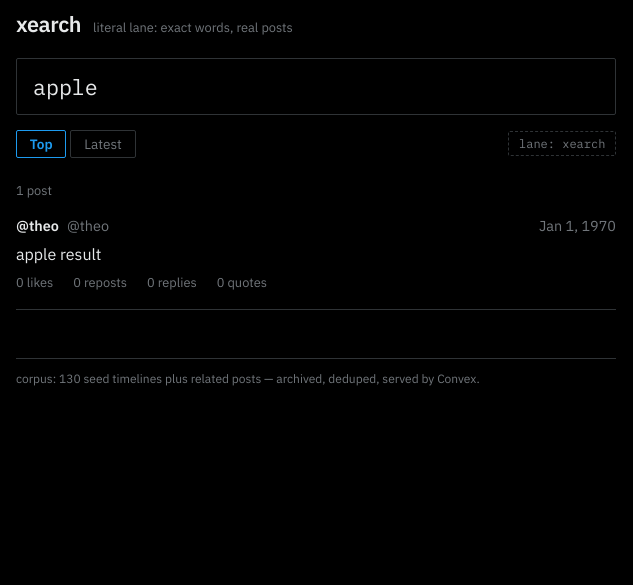
sort change /?q=apple -> Latest shows loading, never stale results
This screenshot has width=633, height=585.
Click the tab "Latest" at (103, 144), box [70,130,136,158]
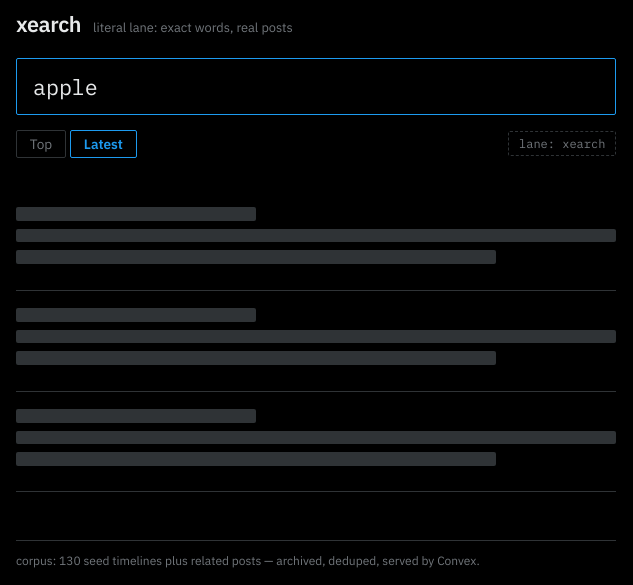
Now the text "apple result" is gone
Now the element named "Loading results" is shown, box [16,190,616,492]
